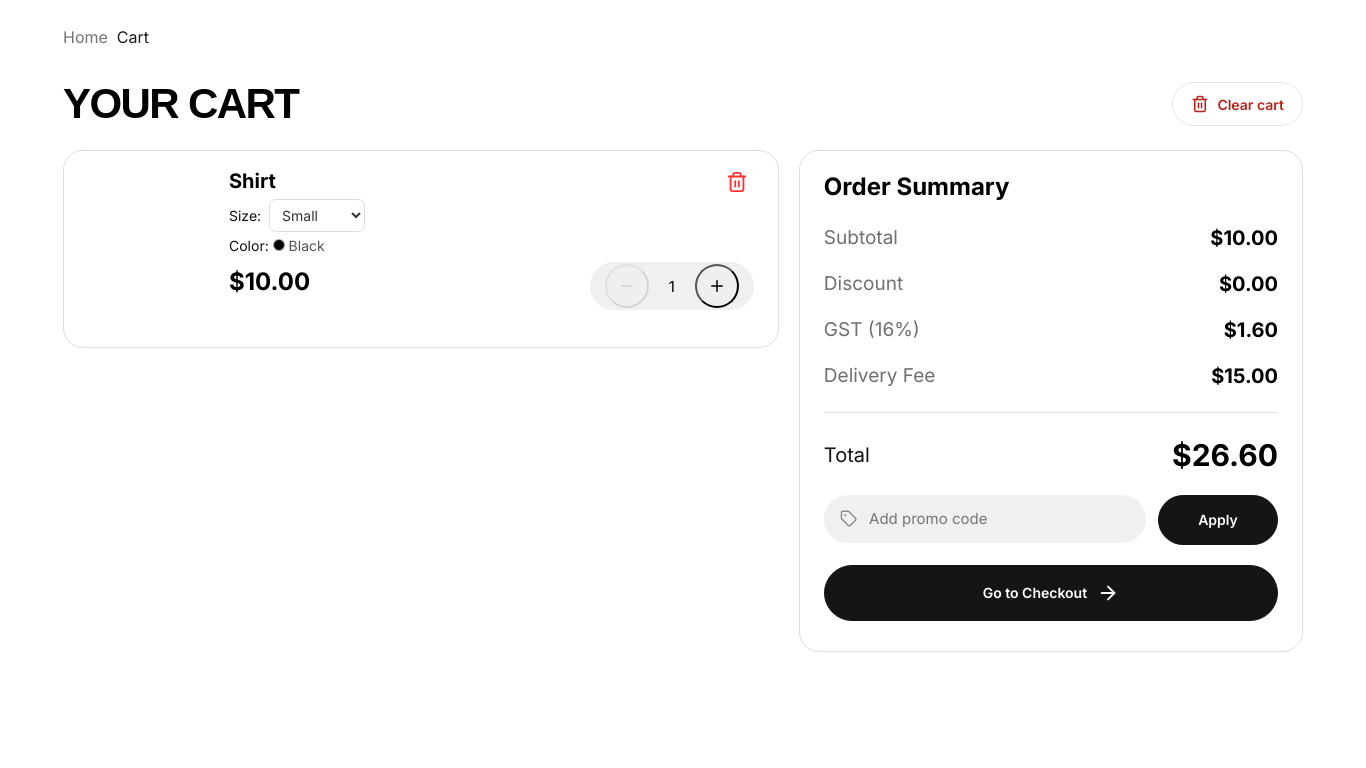
Test: keeps the previous size and price when saving fails
Select "Large" in the dropdown named "Size for Shirt" at (317, 216), box [269, 199, 365, 232]
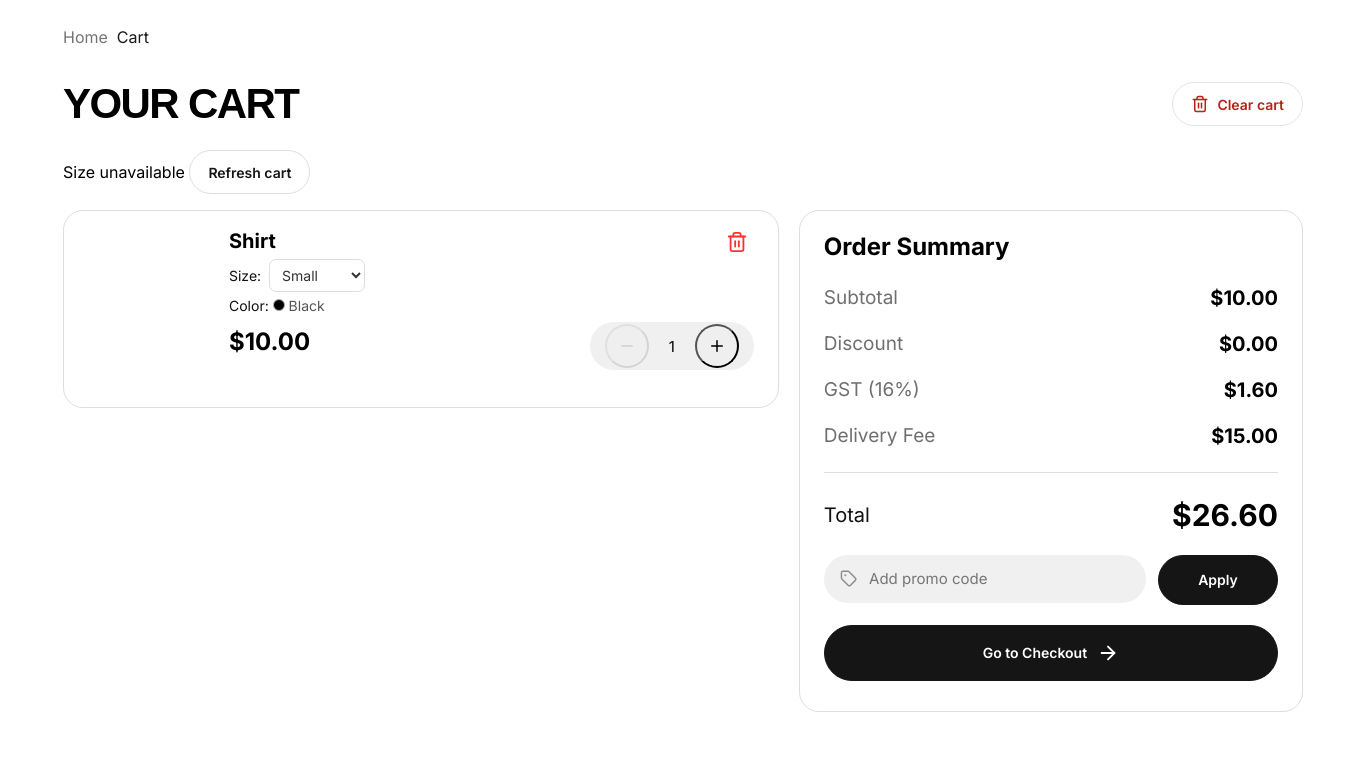
Expected: the text "$26.60" is shown, [1172, 497, 1278, 533]
Expected: the message "Size unavailable Refresh cart" is shown, [63, 150, 310, 194]
